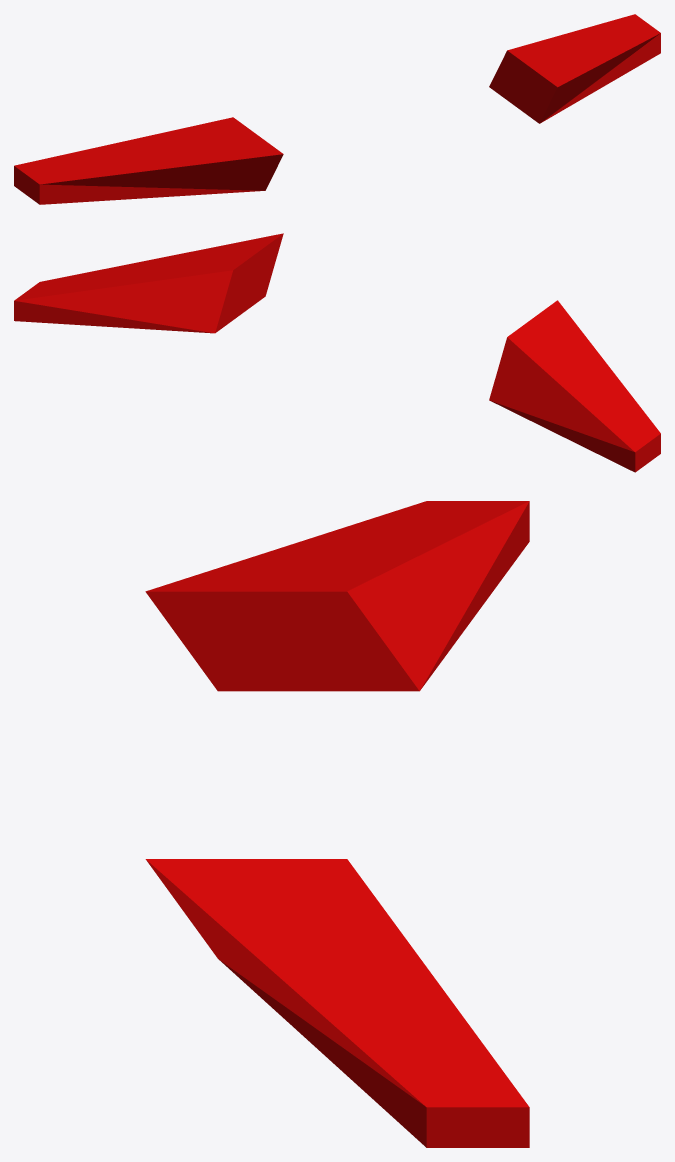
Rendered from Color.dae.
3 renders of one model, top to bottom at view 1: azimuth 30°, elevation 25°; view 2: azimuth 150°, elevation 25°; view 3: azimuth 270°, elevation 25°, orthographic. The views are drawn at different scales.
Visible parts, largest first — view 1: Cube; view 2: Cube; view 3: Cube.
Boxes of the visible parts, left/top/right/bottom form: Cube: left=14, top=14, right=660, bottom=204; Cube: left=14, top=233, right=660, bottom=472; Cube: left=145, top=501, right=529, bottom=1147.
Size of the model in its own units: 1.93 by 0.5183 by 0.178.
